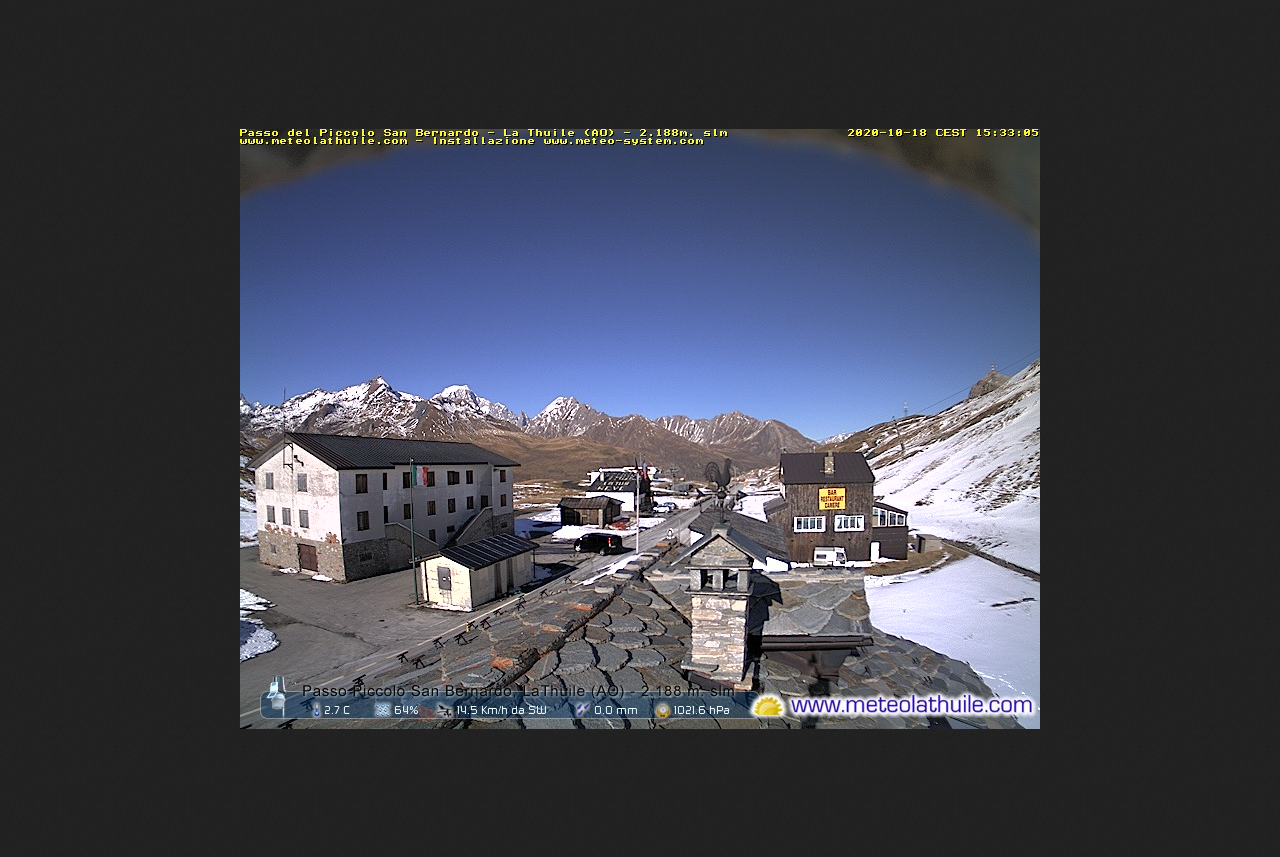yes: (409, 462, 427, 486)
